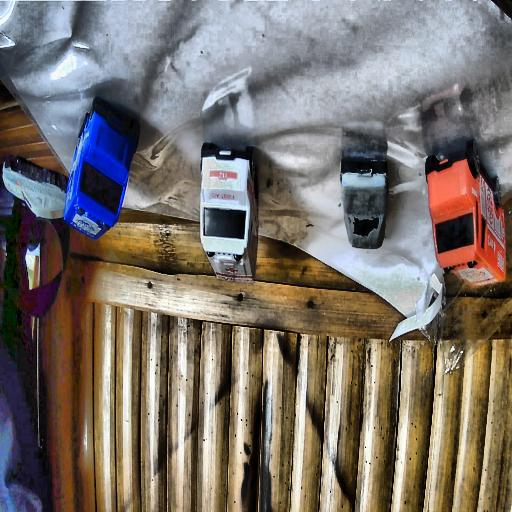ambulance: (199, 148, 259, 284)
fire_truck: (426, 146, 506, 286)
normal_car: (340, 127, 388, 251), (1, 156, 68, 219)
police car: (63, 98, 140, 240)
